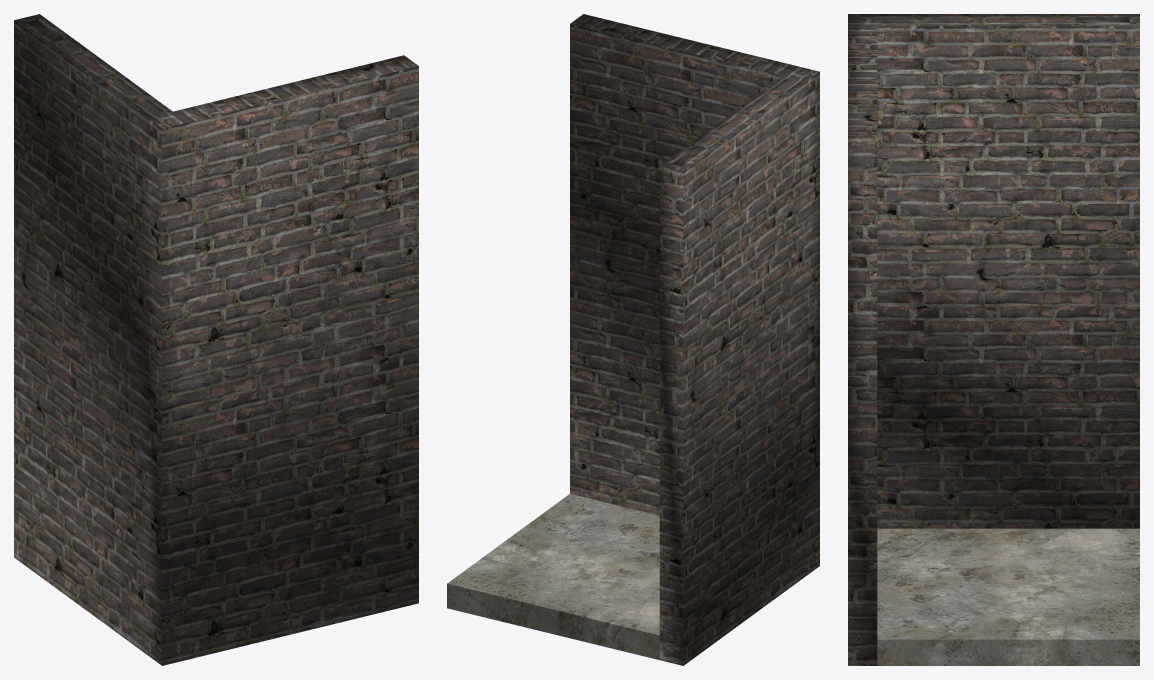
Rendered from Corner_floor_noend_nodoor.fbx.
3 renders of one model, left to right at view 1: azimuth 30°, elevation 25°; view 2: azimuth 150°, elevation 25°; view 3: azimuth 270°, elevation 25°, orthographic. The views are drawn at different scales.
Visible parts, largest first — view 1: Wall_floor_noroof_noend_nodoor_corner; view 2: Wall_floor_noroof_noend_nodoor_corner; view 3: Wall_floor_noroof_noend_nodoor_corner.
Part boxes in pixels (<box>): Wall_floor_noroof_noend_nodoor_corner: <box>14,14,418,665</box>; Wall_floor_noroof_noend_nodoor_corner: <box>447,14,819,665</box>; Wall_floor_noroof_noend_nodoor_corner: <box>848,14,1139,665</box>.
Bounding box in the file's own units: 100 × 200 × 100.
